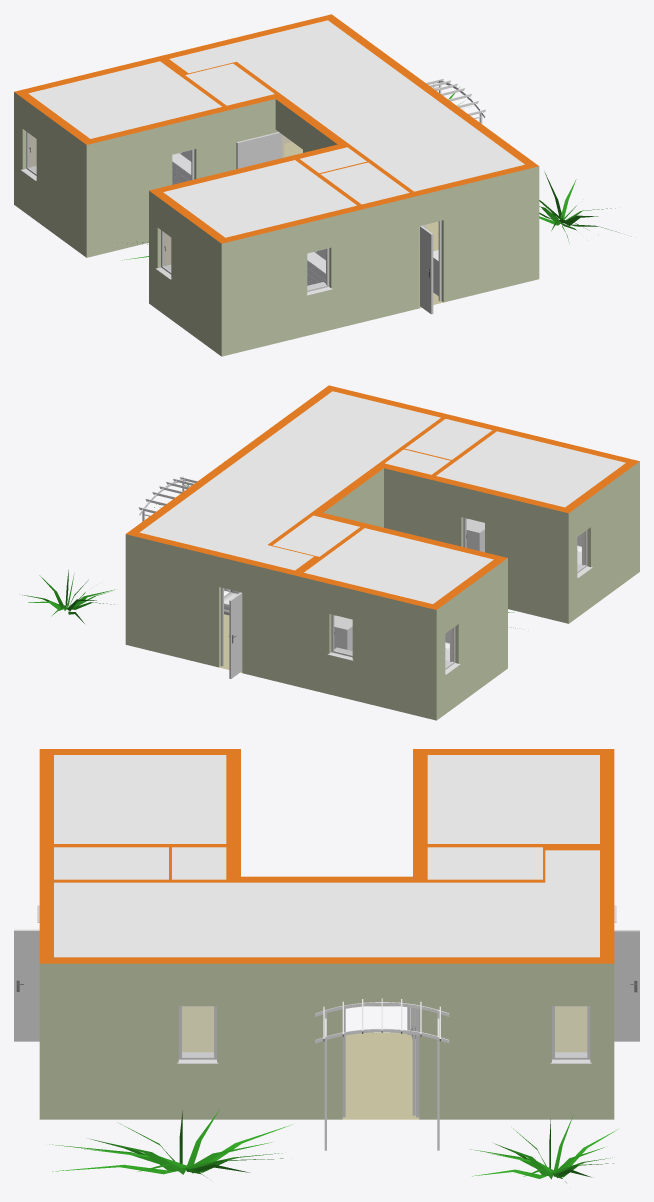
File: U East Fasing.obj
3 renders of one model, top to bottom at view 1: azimuth 30°, elevation 25°; view 2: azimuth 150°, elevation 25°; view 3: azimuth 270°, elevation 25°, orthographic. The views are drawn at different scales.
Visible parts, largest first — view 1: ceiling room162, wall21 exterior, wall50 exterior, wall15 exterior, levelSection0 level1, ceiling room18, ceiling room12, wall16 exterior, wall22 exterior, wall20 exterior, ceiling room42, ceiling room48 (+16 smaller); view 2: ceiling room162, wall13 exterior, wall19 exterior, wall166 exterior, levelSection0 level1, ceiling room12, ceiling room18, wall22 exterior, wall16 exterior, wall174 exterior, wall79 exterior, ceiling room42 (+11 smaller); view 3: wall163 exterior, ceiling room162, levelSection0 level1, ceiling room12, ceiling room18, floor room162, ceiling room42, ceiling room48, door107, door123, outdoor.grassHigh152, outdoor.pergola153 (+8 smaller).
Boxes of the visible parts, x1,y1,x2,y2 form: ceiling room162: (217, 20, 524, 191); wall21 exterior: (221, 210, 357, 356); wall50 exterior: (424, 166, 539, 302); wall15 exterior: (86, 112, 222, 257); levelSection0 level1: (14, 14, 538, 243); ceiling room18: (163, 160, 356, 237); ceiling room12: (28, 61, 221, 138); wall16 exterior: (14, 92, 86, 257); wall22 exterior: (149, 191, 221, 356); wall20 exterior: (371, 198, 410, 319); ceiling room42: (185, 63, 274, 105); ceiling room48: (320, 162, 409, 204); ceiling room162: (140, 391, 440, 558); wall13 exterior: (294, 575, 436, 720); wall19 exterior: (422, 477, 568, 623); wall166 exterior: (125, 534, 233, 667); levelSection0 level1: (126, 385, 639, 609); ceiling room12: (304, 528, 493, 603); ceiling room18: (436, 431, 625, 507); wall22 exterior: (568, 461, 639, 623); wall16 exterior: (436, 558, 507, 720); wall174 exterior: (234, 560, 293, 685); wall79 exterior: (384, 468, 421, 536); ceiling room42: (273, 515, 359, 556); wall163 exterior: (39, 963, 614, 1119); ceiling room162: (54, 882, 599, 957); levelSection0 level1: (39, 749, 614, 963); ceiling room12: (427, 755, 599, 843); ceiling room18: (54, 755, 226, 843); floor room162: (182, 1032, 587, 1119); ceiling room42: (427, 847, 542, 879); ceiling room48: (54, 847, 168, 879); door107: (14, 929, 39, 1041); door123: (614, 930, 639, 1041); outdoor.grassHigh152: (49, 1109, 292, 1177); outdoor.pergola153: (315, 998, 449, 1150).
Size of the model in its own units: 11.23 by 2.74 by 9.96.
